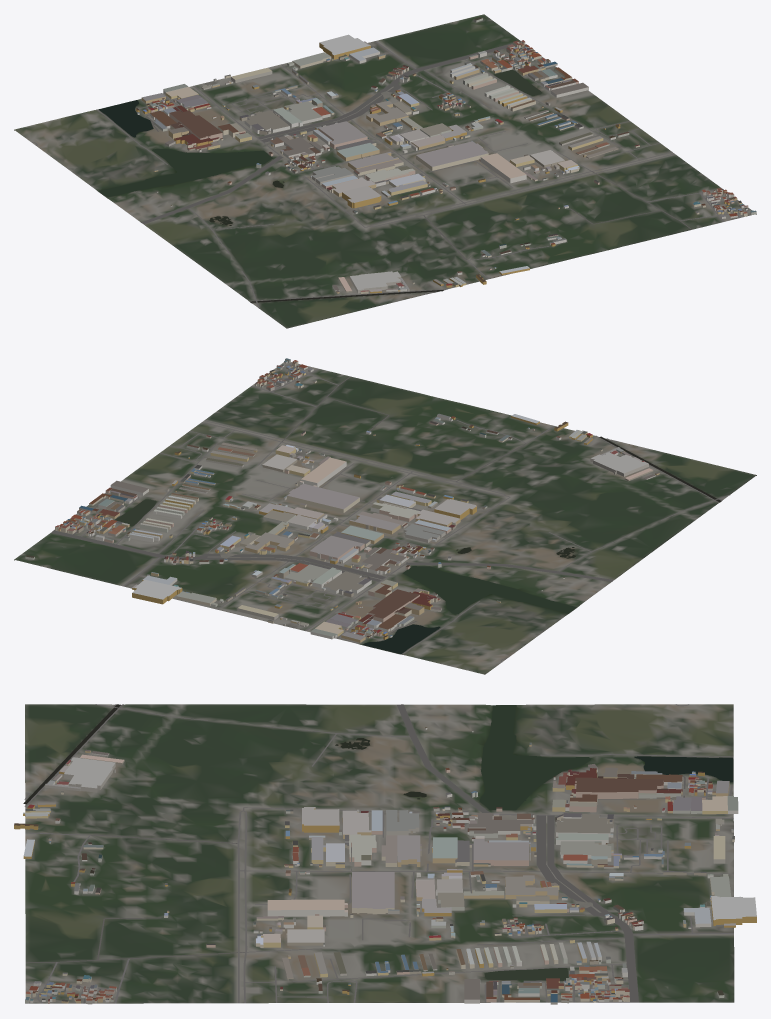
3 renders of one model, top to bottom at view 1: azimuth 30°, elevation 25°; view 2: azimuth 150°, elevation 25°; view 3: azimuth 270°, elevation 25°, orthographic. The views are drawn at different scales.
Parts seen in each view (by area): view 1: ground, buildings, roads, water; view 2: ground, buildings, roads, water; view 3: ground, buildings, roads, water.
Boxes of the visible parts, x1,y1,x2,y2 form: ground: (14,14,756,328); buildings: (136,17,756,293); roads: (31,41,750,308); water: (98,70,542,302); ground: (14,362,756,674); buildings: (25,358,659,642); roads: (51,365,729,662); water: (114,436,721,653); ground: (25,704,734,1003); buildings: (14,727,756,1004); roads: (24,704,733,1003); water: (23,704,733,980).
Bounding box in the file's own units: 1408 × 20.27 × 1470.
